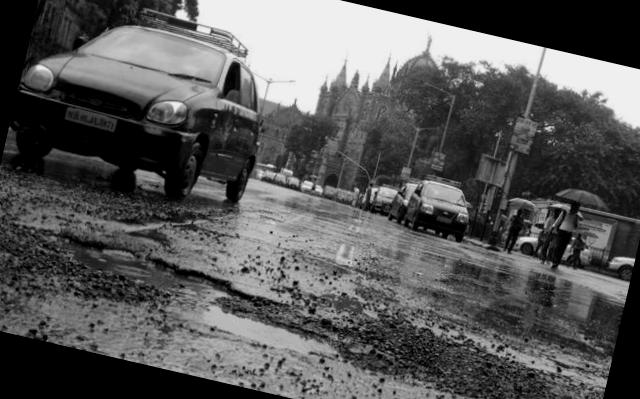Pothole: (22, 200, 355, 398)
